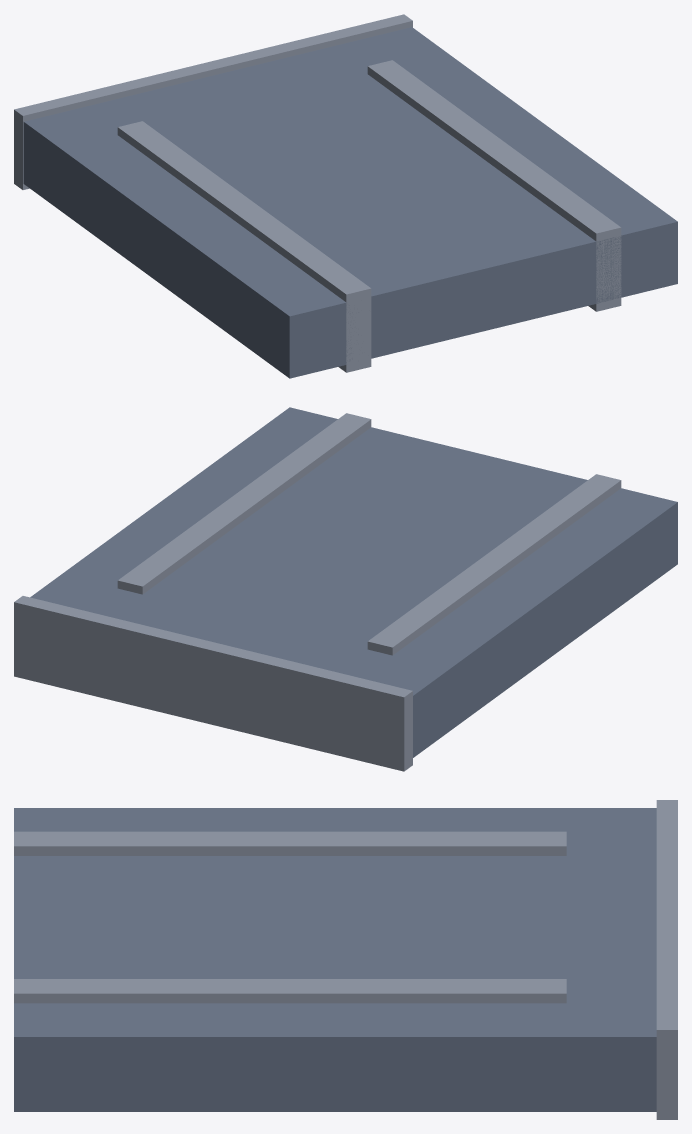
File: corridor_wall_straight_3p946.glb
3 views of the same model, one above another, from view 1: azimuth 30°, elevation 25°; view 2: azimuth 150°, elevation 25°; view 3: azimuth 270°, elevation 25° (orthographic). The views are drawn at different scales.
Visible parts, largest first — view 1: Wall.005, Buttress.010, Buttress.011, Cap.005; view 2: Wall.005, Cap.005, Buttress.010, Buttress.011; view 3: Wall.005, Buttress.010, Buttress.011, Cap.005.
Boxes of the visible parts, x1,y1,x2,y2 form: Wall.005: (23,27,677,378); Buttress.010: (117,121,371,372); Buttress.011: (367,60,621,311); Cap.005: (14,14,412,189); Wall.005: (30,407,677,757); Cap.005: (14,596,412,771); Buttress.010: (367,474,621,655); Buttress.011: (117,413,371,594); Wall.005: (14,808,656,1111); Buttress.010: (14,831,566,855); Buttress.011: (14,979,566,1003); Cap.005: (656,800,677,1119).
Size of the model in its own units: 4.07 by 0.78 by 4.96.
